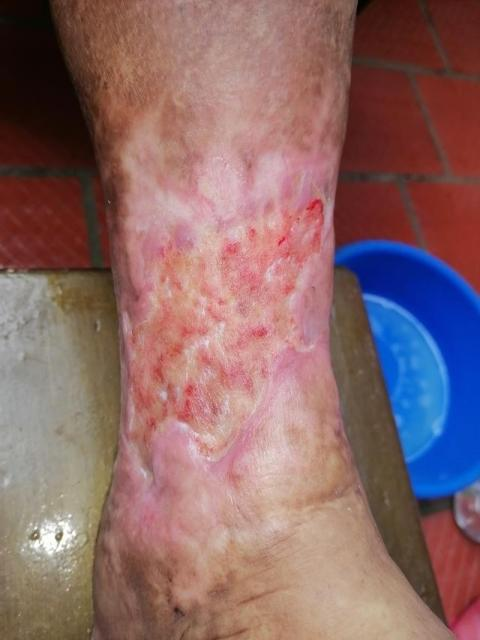wound: (127, 200, 326, 484)
